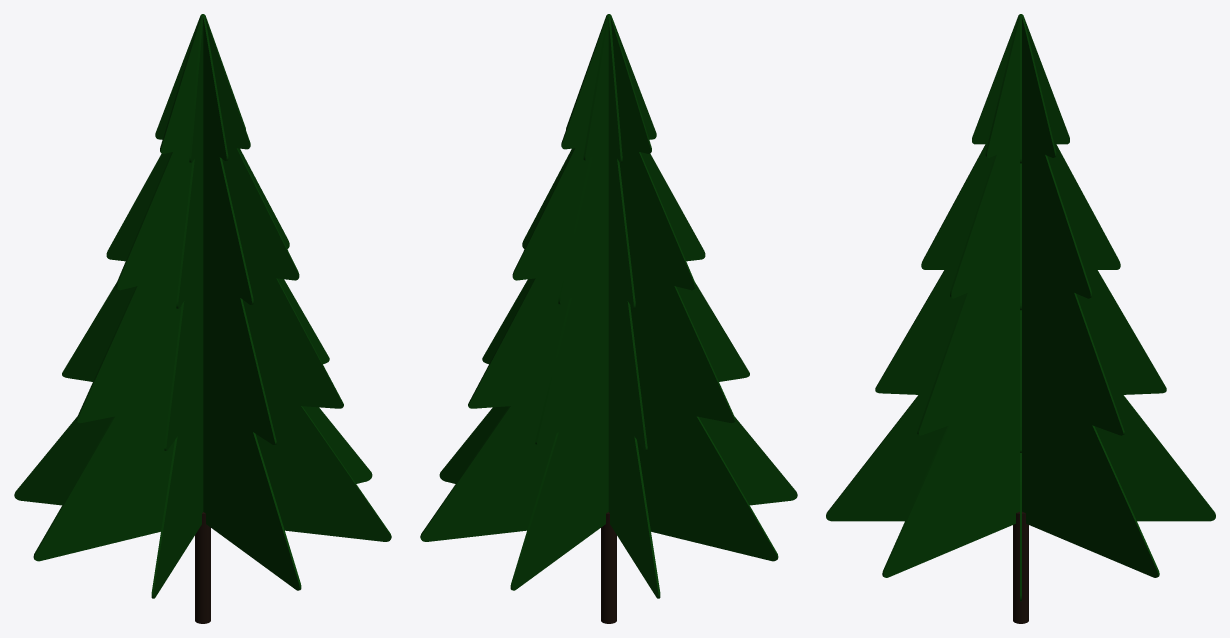
File: Pine_Tree.obj
The picture shows the model from 3 angles, left to right: view 1: azimuth 30°, elevation 25°; view 2: azimuth 150°, elevation 25°; view 3: azimuth 270°, elevation 25°; orthographic projection.
Parts seen in each view (by area): view 1: Shape004, Shape1, Shape002, Shape003, Cylinder001; view 2: Shape003, Shape1, Shape002, Shape004, Cylinder001; view 3: Shape002, Shape003, Shape004, Cylinder001, Shape1.
Boxes of the visible parts, box(x1,y1,x2,y2) form: Shape004: box(14, 14, 391, 541); Shape1: box(33, 14, 372, 561); Shape002: box(201, 14, 301, 590); Shape003: box(151, 14, 203, 598); Cylinder001: box(195, 512, 210, 623); Shape003: box(420, 14, 797, 541); Shape1: box(439, 14, 778, 561); Shape002: box(510, 14, 610, 590); Shape004: box(608, 14, 660, 598); Cylinder001: box(601, 512, 616, 623); Shape002: box(826, 14, 1215, 521); Shape003: box(1020, 14, 1159, 577); Shape004: box(882, 14, 1021, 577); Cylinder001: box(1013, 511, 1028, 623); Shape1: box(1020, 14, 1021, 601).
Size of the model in its own units: 13.12 by 22.51 by 13.12.
